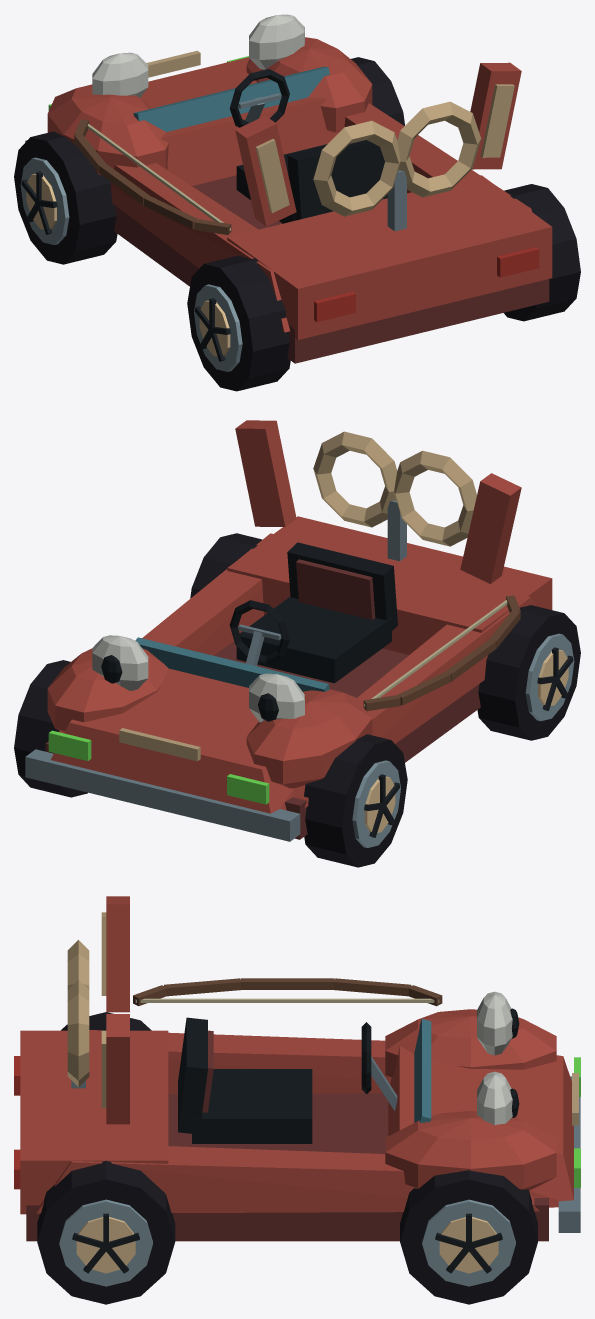
Rendered from kart.glb.
3 views of the same model, one above another, from view 1: azimuth 30°, elevation 25°; view 2: azimuth 150°, elevation 25°; view 3: azimuth 270°, elevation 25° (orthographic). The views are drawn at different scales.
Visible parts, largest first — view 1: identity-toy-car-toy-rounded-body-and-wind-up-key, wheel-rear-left, wheel-front-left, identity-toy-car-motif-ears, identity-toy-car-driver-cockpit, identity-toy-car-motif-eyes, wheel-rear-right, identity-toy-car-motif-bow, wheel-front-right; view 2: identity-toy-car-toy-rounded-body-and-wind-up-key, identity-toy-car-driver-cockpit, wheel-front-left, wheel-rear-left, identity-toy-car-motif-ears, identity-toy-car-motif-eyes, wheel-front-right, identity-toy-car-motif-bow, wheel-rear-right; view 3: identity-toy-car-toy-rounded-body-and-wind-up-key, wheel-rear-right, wheel-front-right, identity-toy-car-driver-cockpit, identity-toy-car-motif-ears, identity-toy-car-motif-bow, identity-toy-car-motif-eyes, wheel-rear-left.
Boxes of the visible parts, left/top/right/bottom form: identity-toy-car-toy-rounded-body-and-wind-up-key: left=25, top=37, right=552, bottom=363; wheel-rear-left: left=187, top=255, right=290, bottom=391; wheel-front-left: left=14, top=131, right=117, bottom=264; identity-toy-car-motif-ears: left=235, top=62, right=521, bottom=226; identity-toy-car-driver-cockpit: left=229, top=69, right=387, bottom=223; identity-toy-car-motif-eyes: left=92, top=14, right=304, bottom=97; wheel-rear-right: left=504, top=184, right=580, bottom=321; identity-toy-car-motif-bow: left=74, top=119, right=231, bottom=234; wheel-front-right: left=351, top=57, right=404, bottom=125; identity-toy-car-toy-rounded-body-and-wind-up-key: left=25, top=431, right=552, bottom=841; identity-toy-car-driver-cockpit: left=229, top=542, right=397, bottom=683; wheel-front-left: left=304, top=734, right=407, bottom=867; wheel-rear-left: left=477, top=605, right=580, bottom=740; identity-toy-car-motif-ears: left=235, top=420, right=521, bottom=583; identity-toy-car-motif-eyes: left=92, top=635, right=304, bottom=722; wheel-front-right: left=14, top=660, right=87, bottom=797; identity-toy-car-motif-bow: left=363, top=595, right=520, bottom=711; wheel-rear-right: left=190, top=533, right=262, bottom=598; identity-toy-car-toy-rounded-body-and-wind-up-key: left=14, top=940, right=580, bottom=1241; wheel-rear-right: left=37, top=1161, right=175, bottom=1304; wheel-front-right: left=400, top=1170, right=537, bottom=1304; identity-toy-car-driver-cockpit: left=178, top=1017, right=397, bottom=1143; identity-toy-car-motif-ears: left=101, top=896, right=129, bottom=1124; identity-toy-car-motif-bow: left=133, top=978, right=442, bottom=1006; identity-toy-car-motif-eyes: left=477, top=991, right=519, bottom=1125; wheel-rear-left: left=61, top=1012, right=151, bottom=1030.
Bounding box in the file's own units: 2.14 × 1.46 × 2.88.
